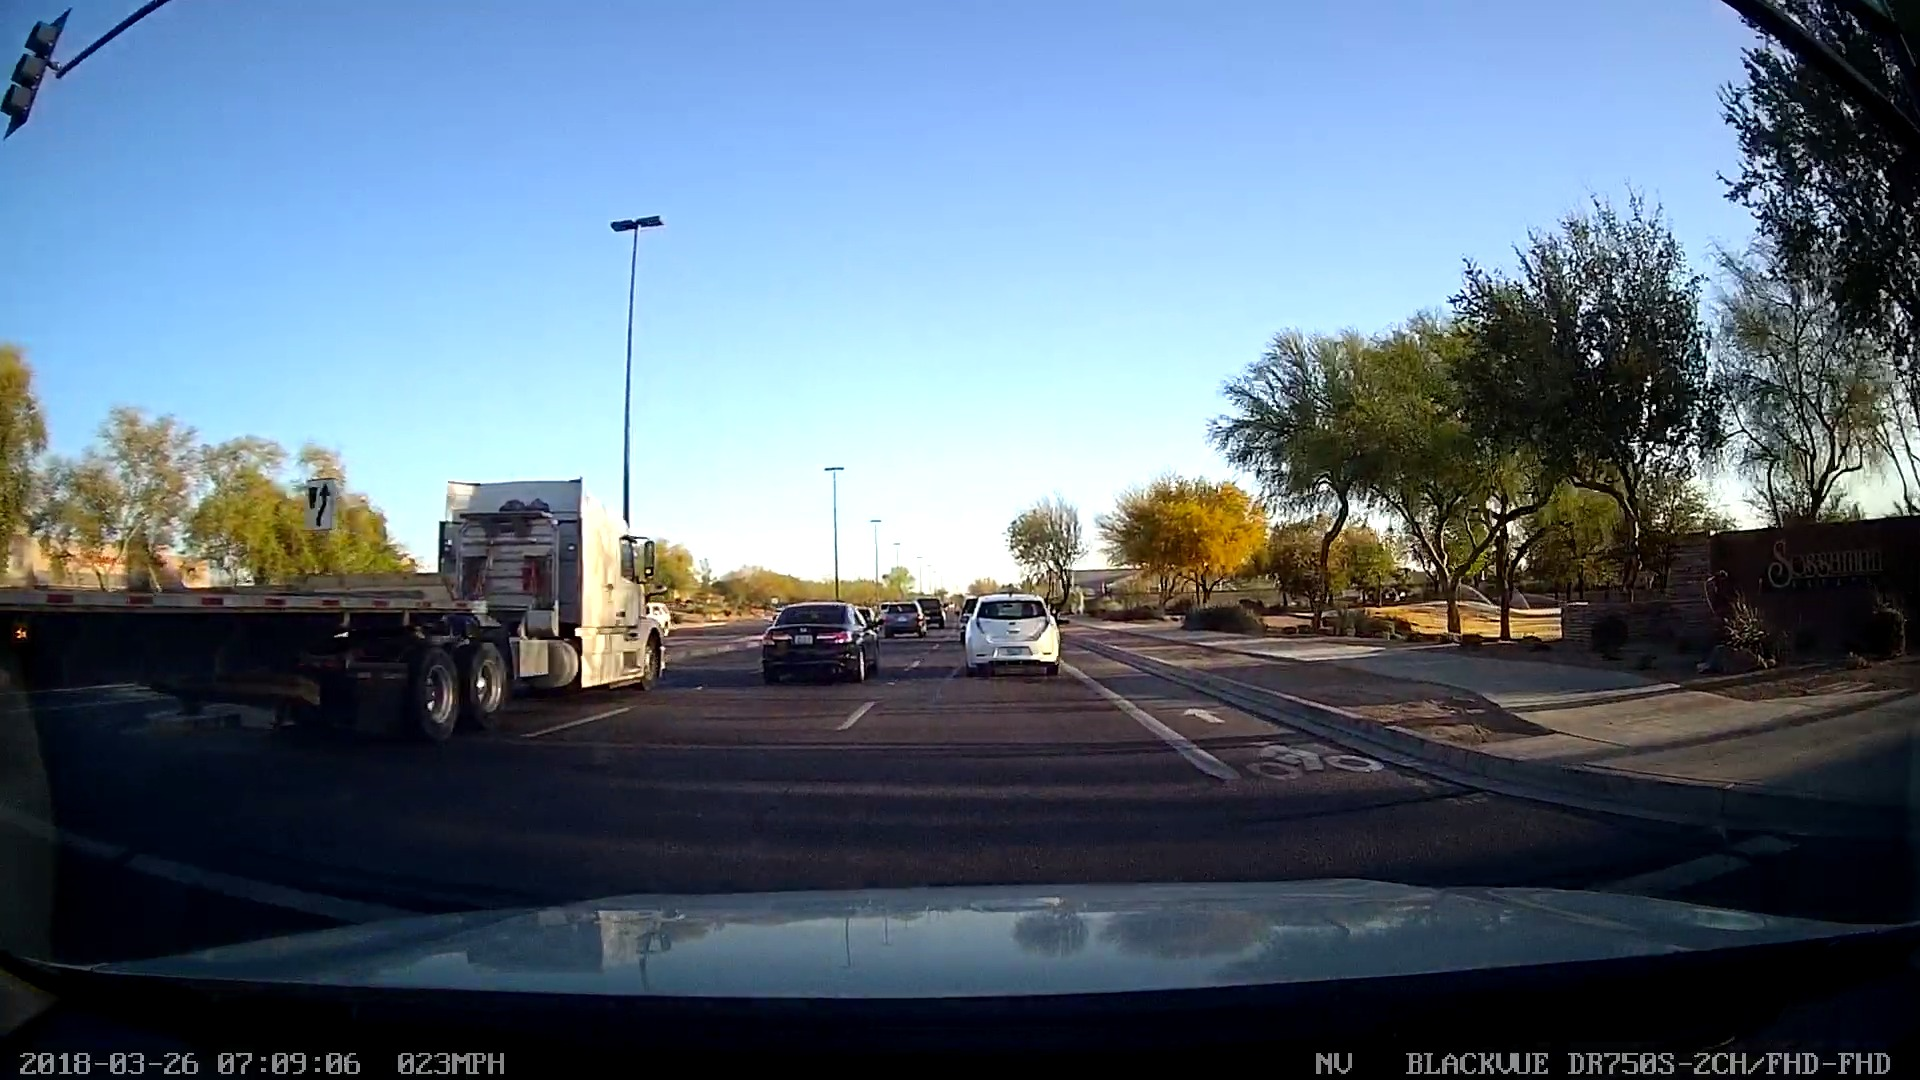vehicle: (1, 465, 696, 752), (746, 585, 898, 696), (951, 585, 1073, 695)
